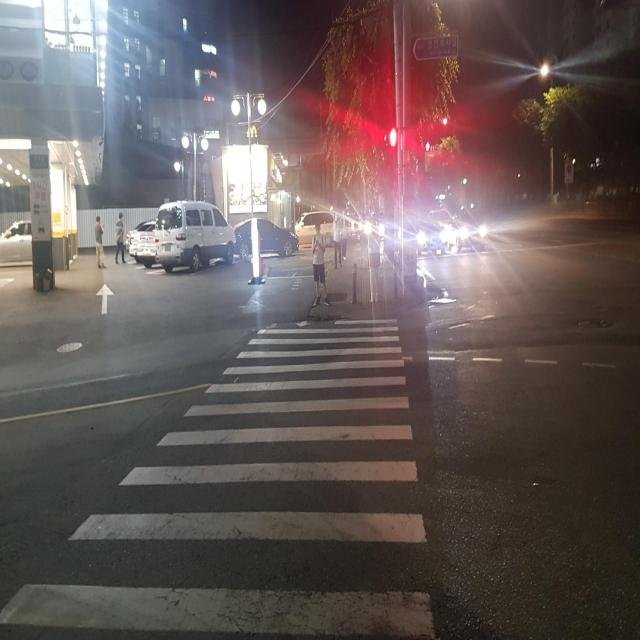빨간불: (384, 131, 396, 183)
횡단보도: (2, 313, 439, 637)
